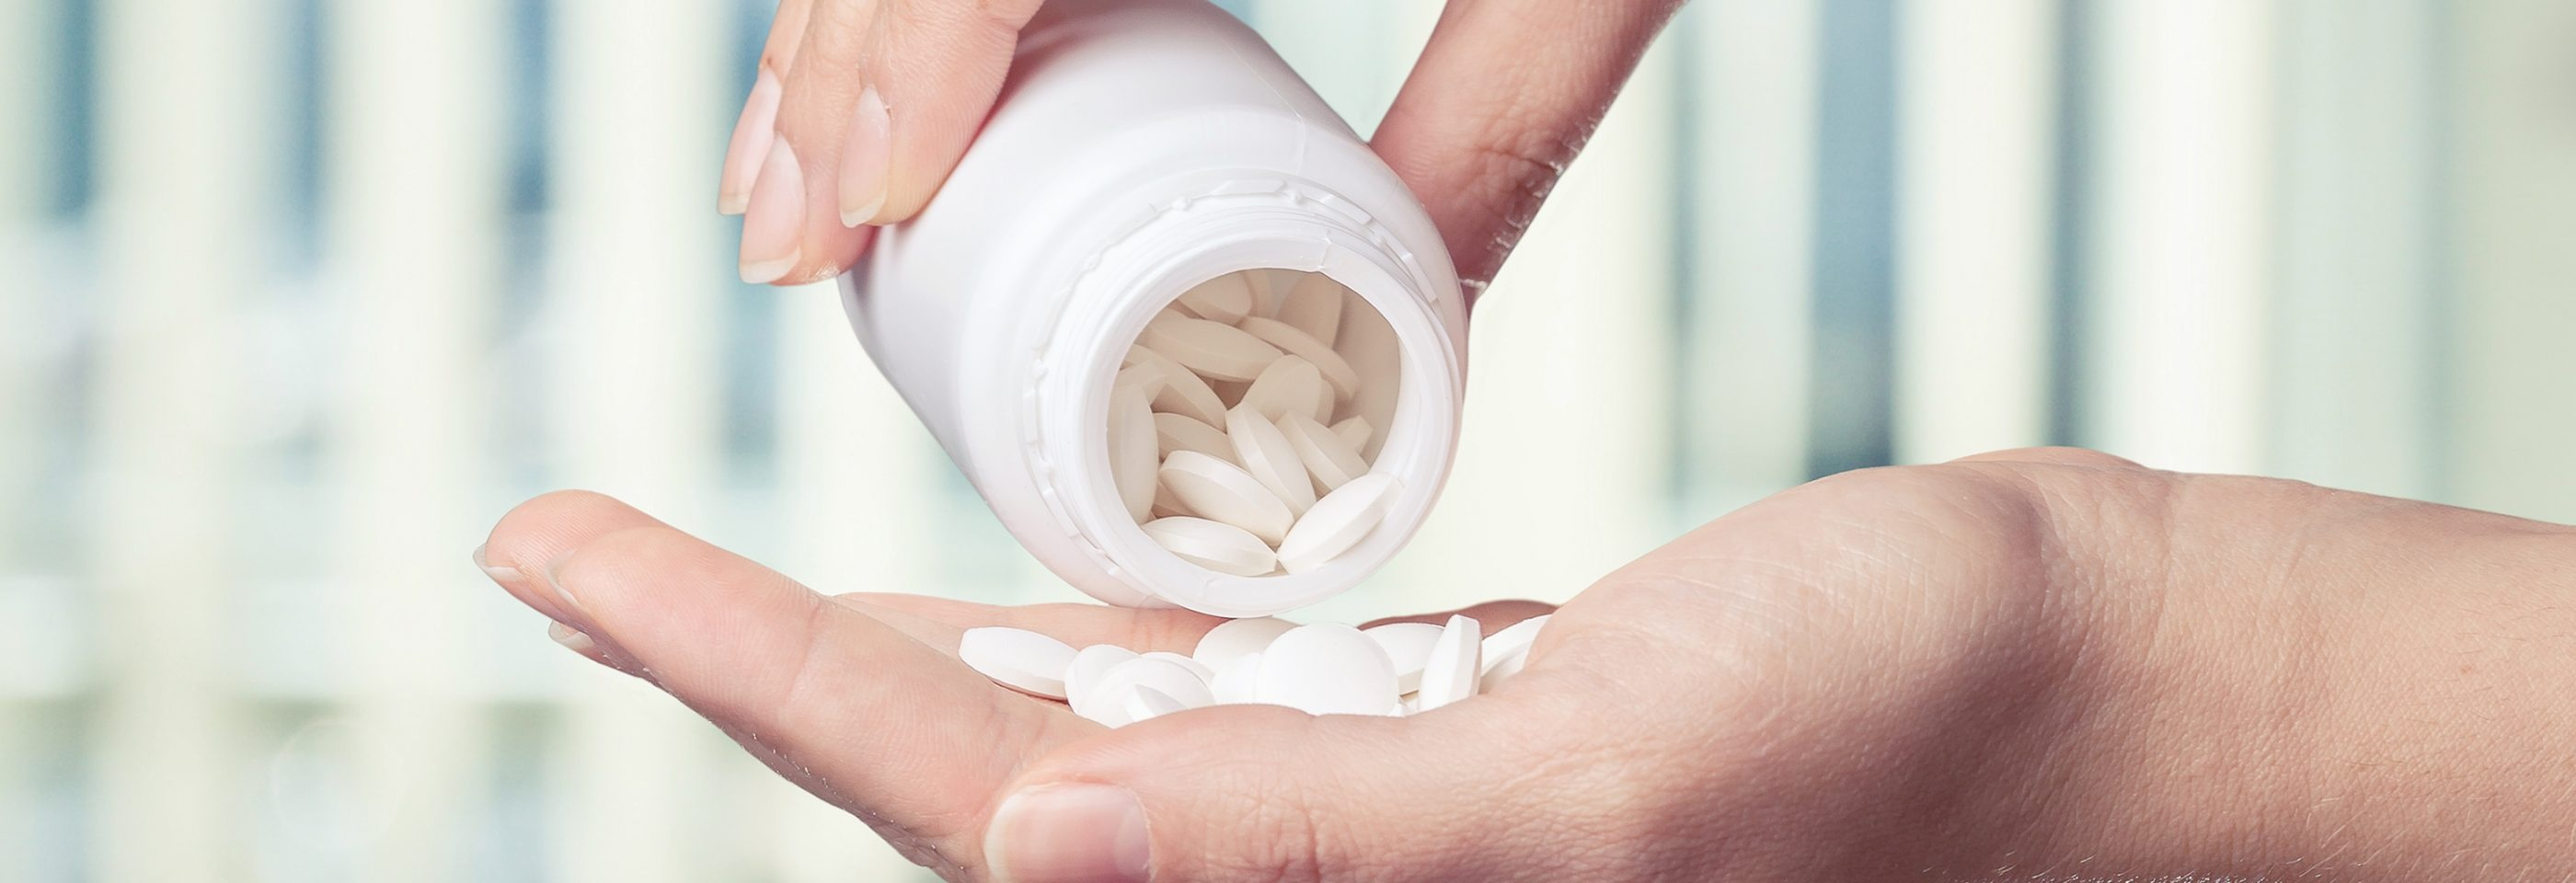pills: (951, 614, 1083, 704), (1074, 638, 1206, 729), (1281, 620, 1413, 709), (1408, 606, 1539, 694), (1155, 437, 1286, 525), (1155, 313, 1286, 402)
